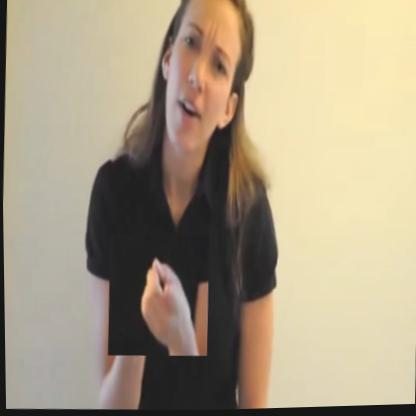HowAreYou: (106, 232, 210, 360)
